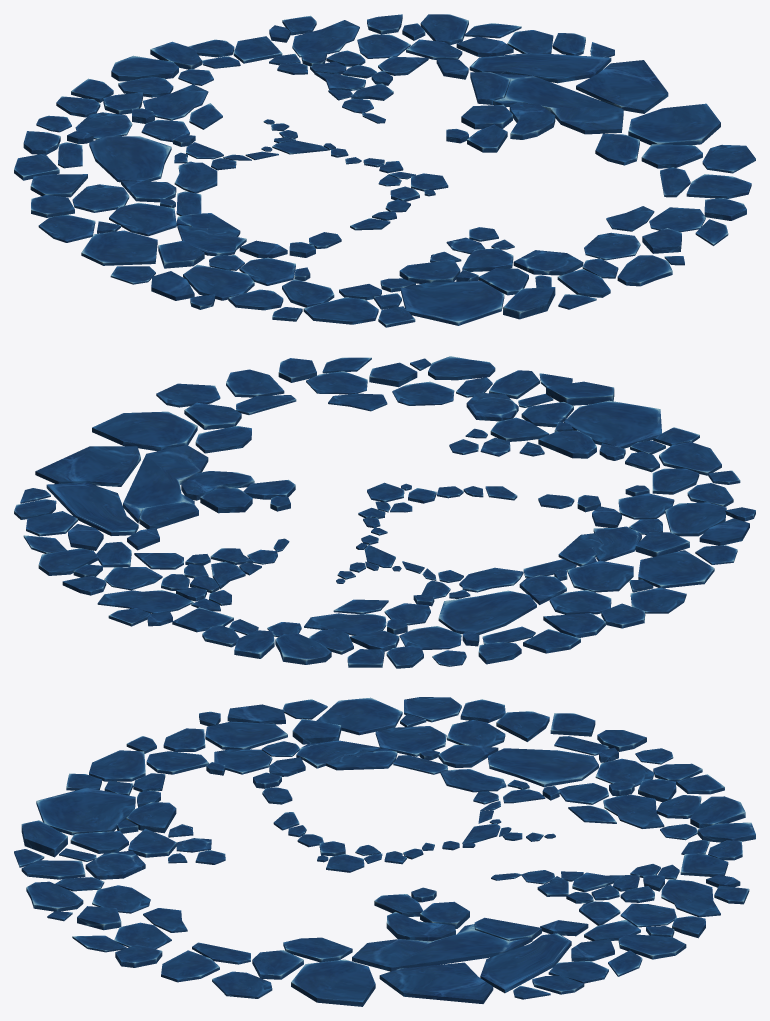
Rendered from FuBing.FBX.
3 views of the same model, one above another, from view 1: azimuth 30°, elevation 25°; view 2: azimuth 150°, elevation 25°; view 3: azimuth 270°, elevation 25° (orthographic).
Parts seen in each view (by area): view 1: FuBing; view 2: FuBing; view 3: FuBing.
Part boxes in pixels (box(x1,y1,x2,y2)): FuBing: box(14, 14, 755, 327); FuBing: box(14, 356, 755, 668); FuBing: box(14, 697, 755, 1006).
Bounding box in the file's own units: 6191 × 74.18 × 6332.
